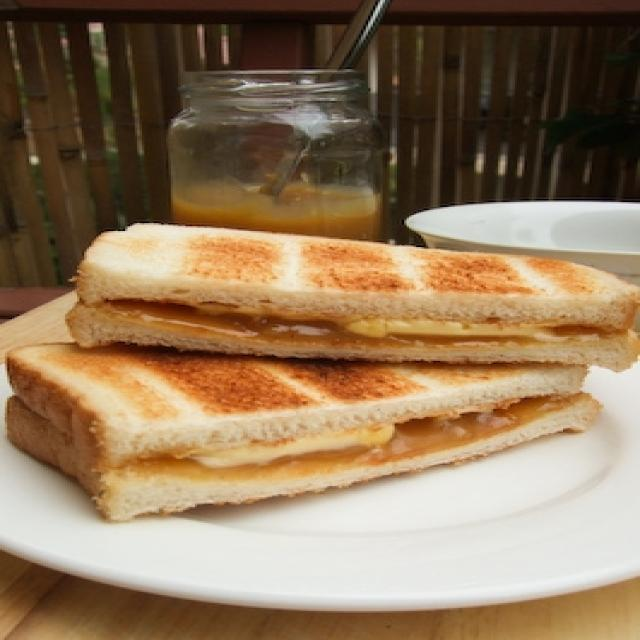面包点心: (0, 175, 635, 584)
